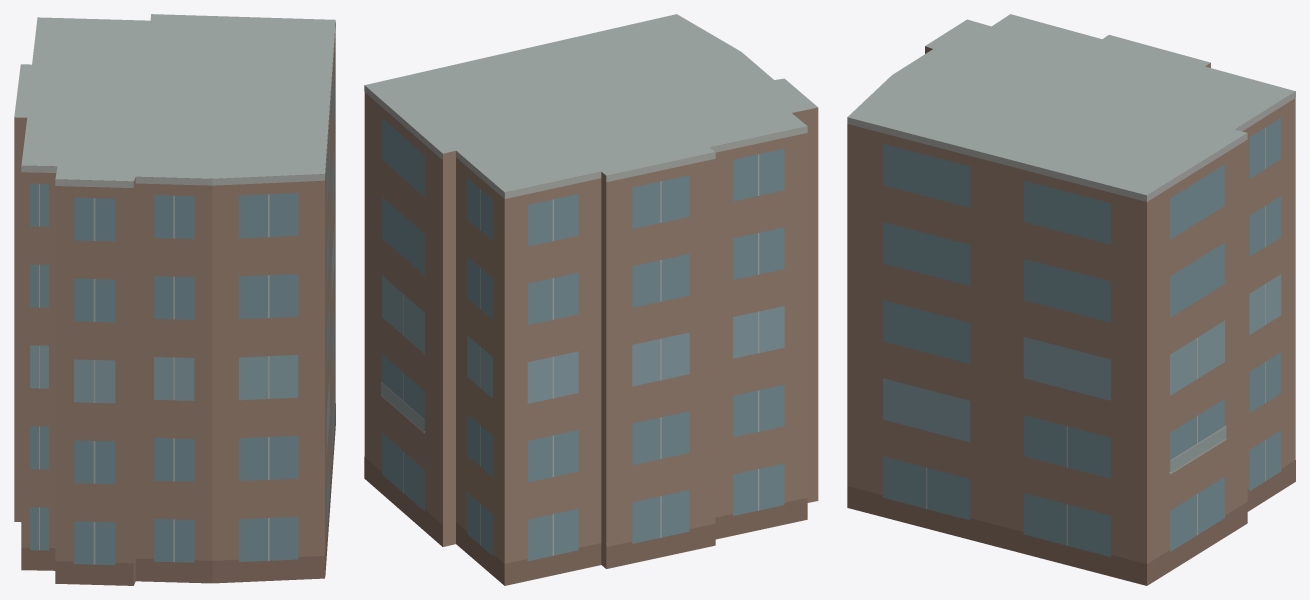
Rendered from survey-upis-32657066.glb.
3 views of the same model, side by side, from view 1: azimuth 30°, elevation 25°; view 2: azimuth 150°, elevation 25°; view 3: azimuth 270°, elevation 25° (orthographic). The views are drawn at different scales.
Visible parts, largest first — view 1: survey-upis-32657066.tmp; view 2: survey-upis-32657066.tmp; view 3: survey-upis-32657066.tmp.
Boxes of the visible parts, x1,y1,x2,y2 form: survey-upis-32657066.tmp: (14,14,335,585); survey-upis-32657066.tmp: (364,14,818,585); survey-upis-32657066.tmp: (847,14,1295,585).
Size of the model in its own units: 14.35 by 14.4 by 14.99.
